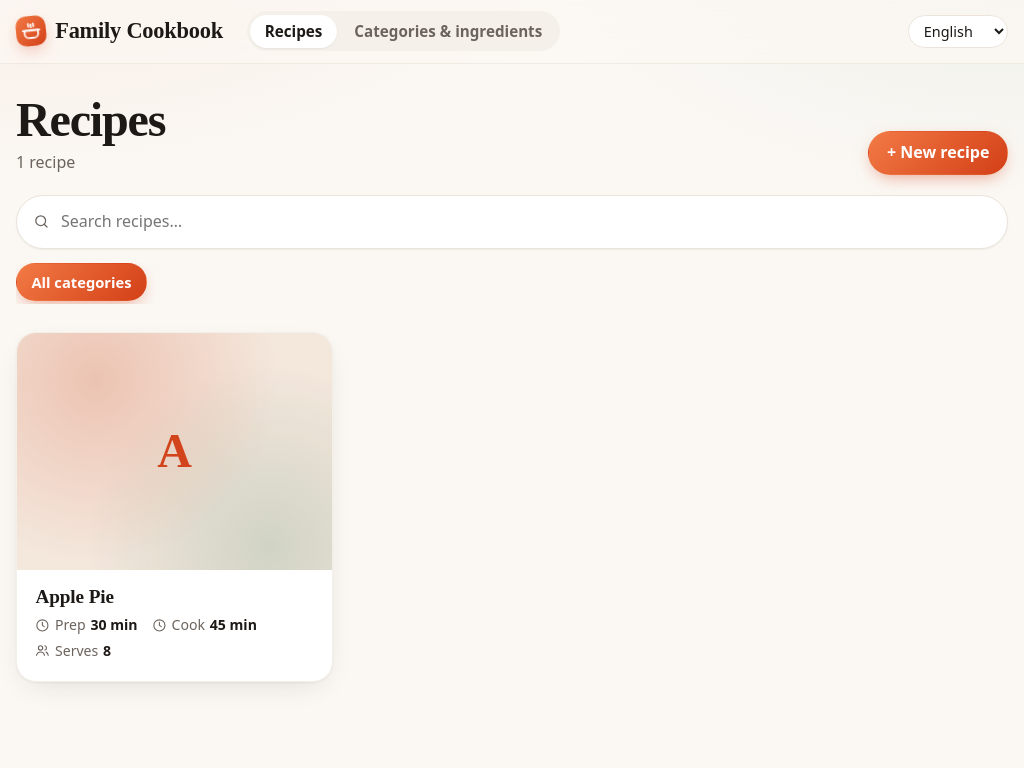
Test: language switcher › switches the page to German and remembers the choice
Expected: the text "1 recipe" is shown, [16,151,75,173]
Step 1. Select "Deutsch" in the dropdown named "Language" → [958, 31], box [908,15,1008,48]
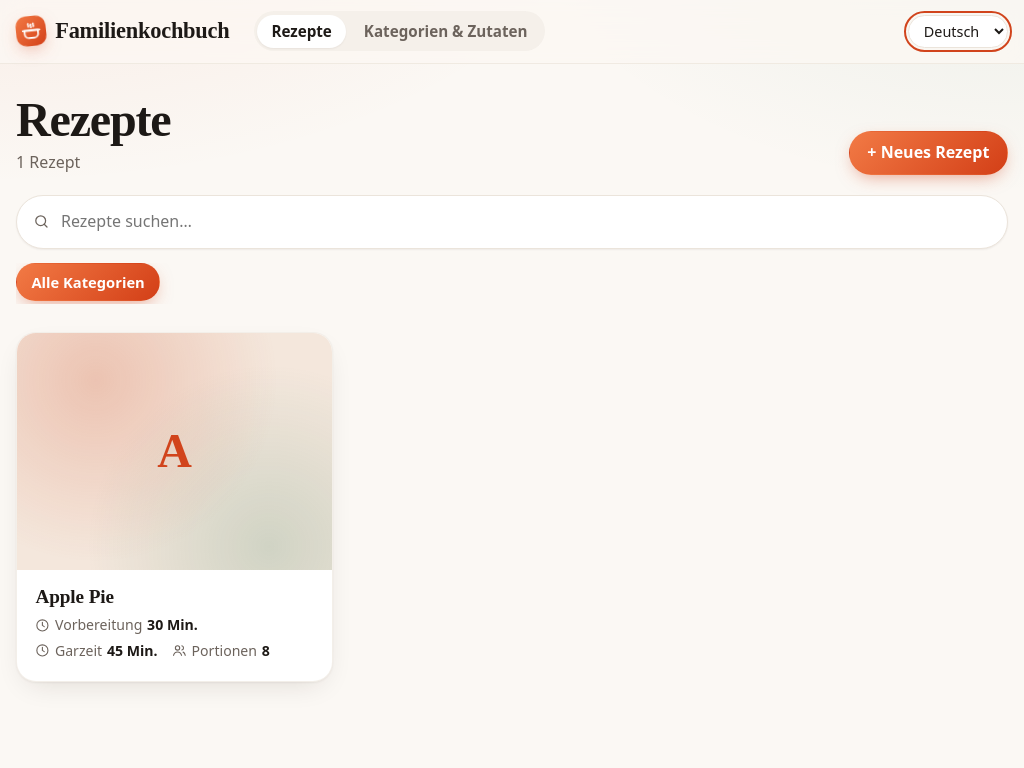
Expected: the heading "Rezepte" is shown, [16,92,170,147]
Expected: the text "1 Rezept" is shown, [16,151,80,173]
Expected: the text "30 Min." is shown, [147,614,198,636]
